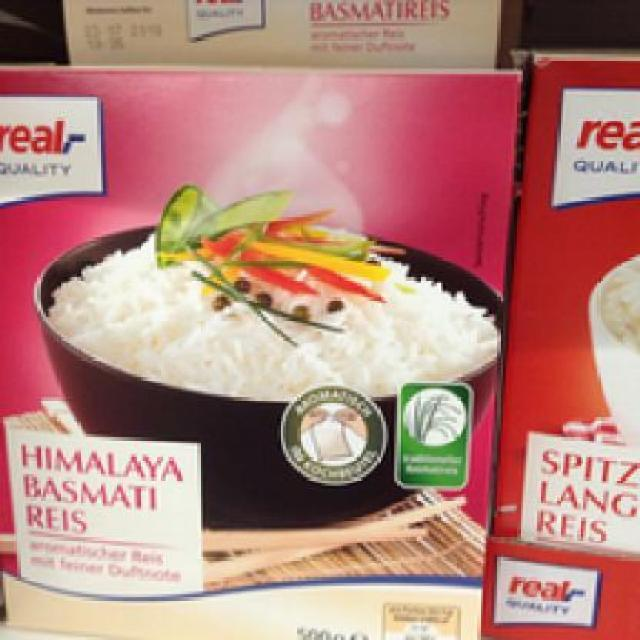Rice: (0, 59, 523, 635), (492, 40, 638, 549)
